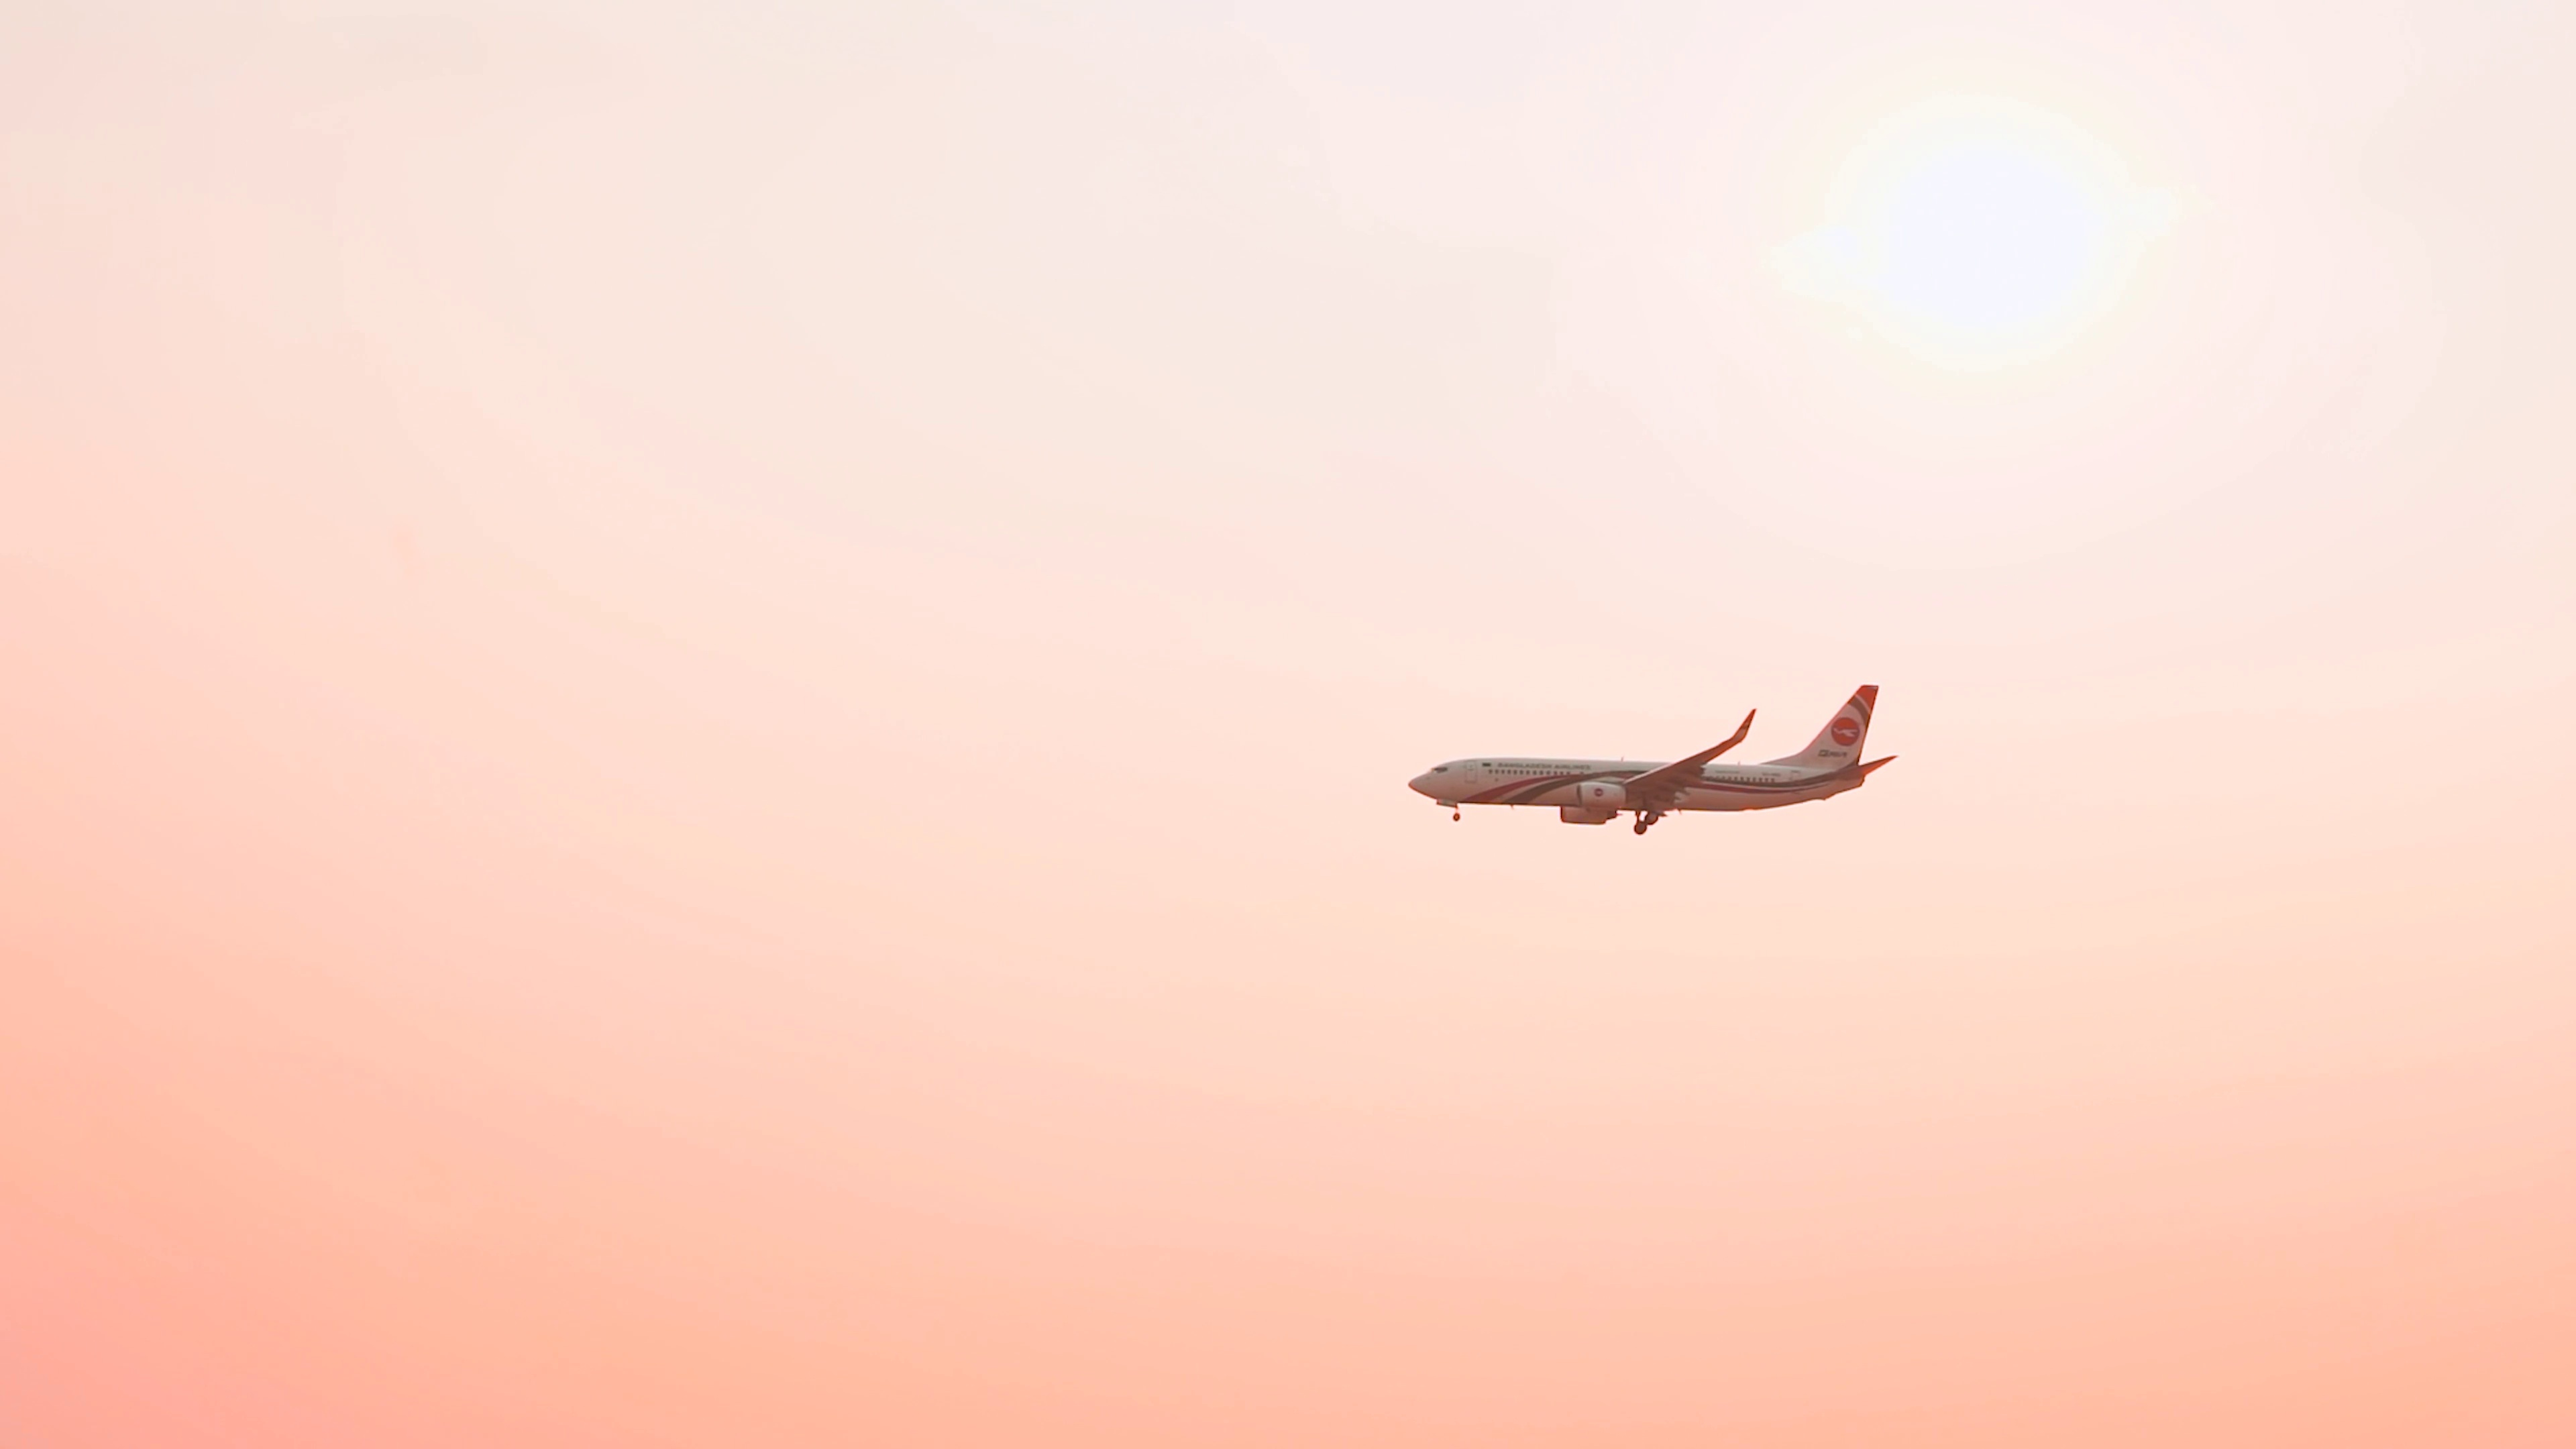plane: (1407, 685, 1897, 835)
